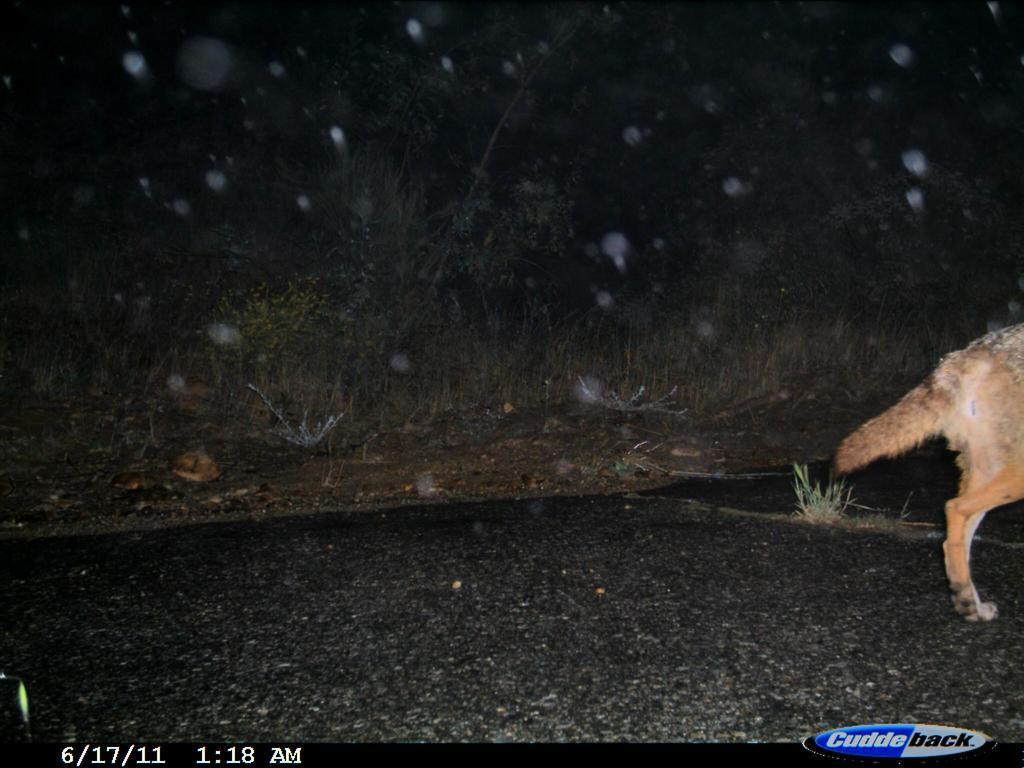coyote: (825, 319, 1023, 630)
